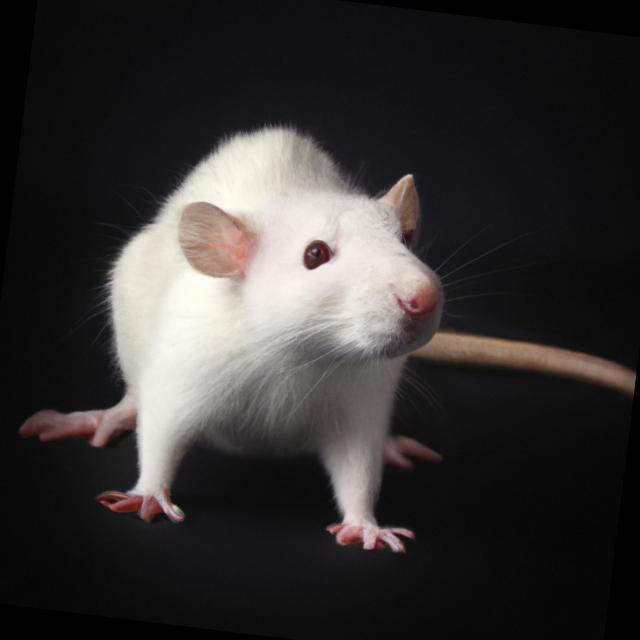rodents: (69, 96, 510, 582)
